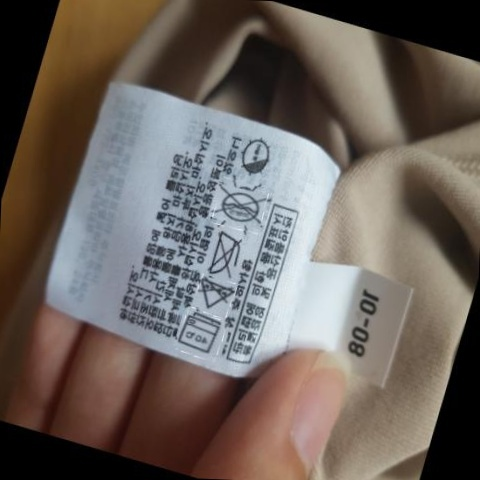40C: (177, 313, 224, 353)
DN_dry_clean: (212, 184, 264, 227)
DN_iron: (205, 228, 245, 281)
line_dry_in_shade: (238, 132, 275, 179)
non_chlorine_bleach: (195, 273, 232, 312)
